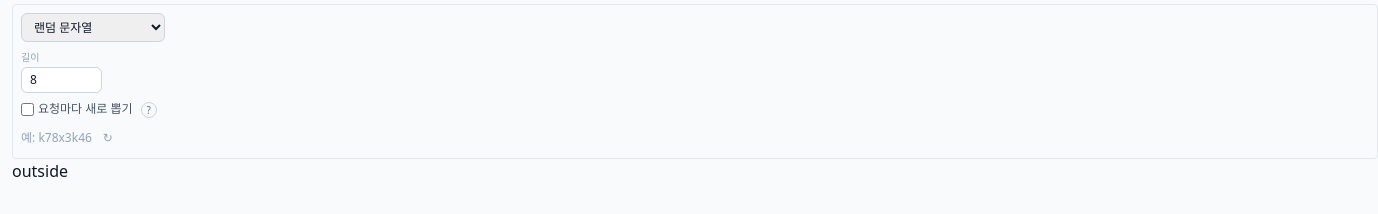
Test case: GenVarEditor — 랜덤 문자열 › US3 특성화: 무효 길이는 blur 시 기존대로 revert되고 안내도 사라진다(정책 불변)
Step 1. Replace the text in the number field labelled "길이" with "65" → (62, 80), box [21,67,102,93]
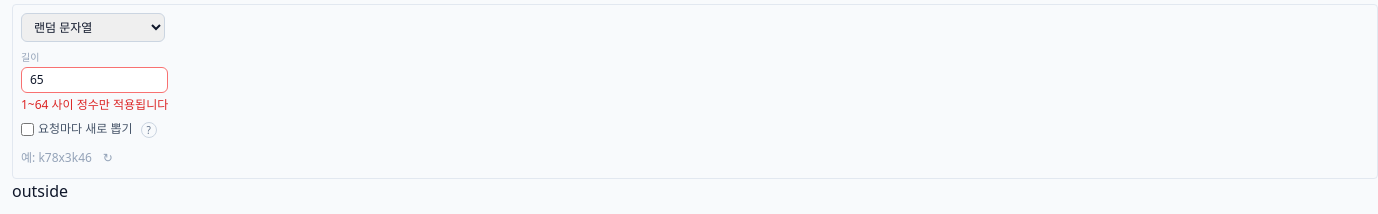
Step 2. Leave the number field labelled "길이 1~64 사이 정수만 적용됩니다", box [21,67,168,93]
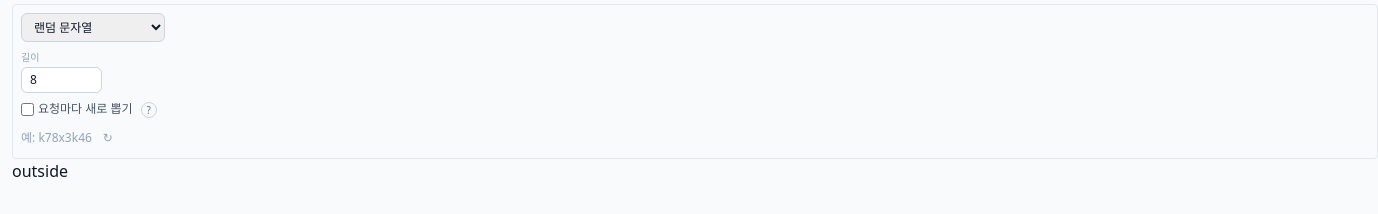
Now the text "1~64 사이 정수만 적용됩니다" is gone
